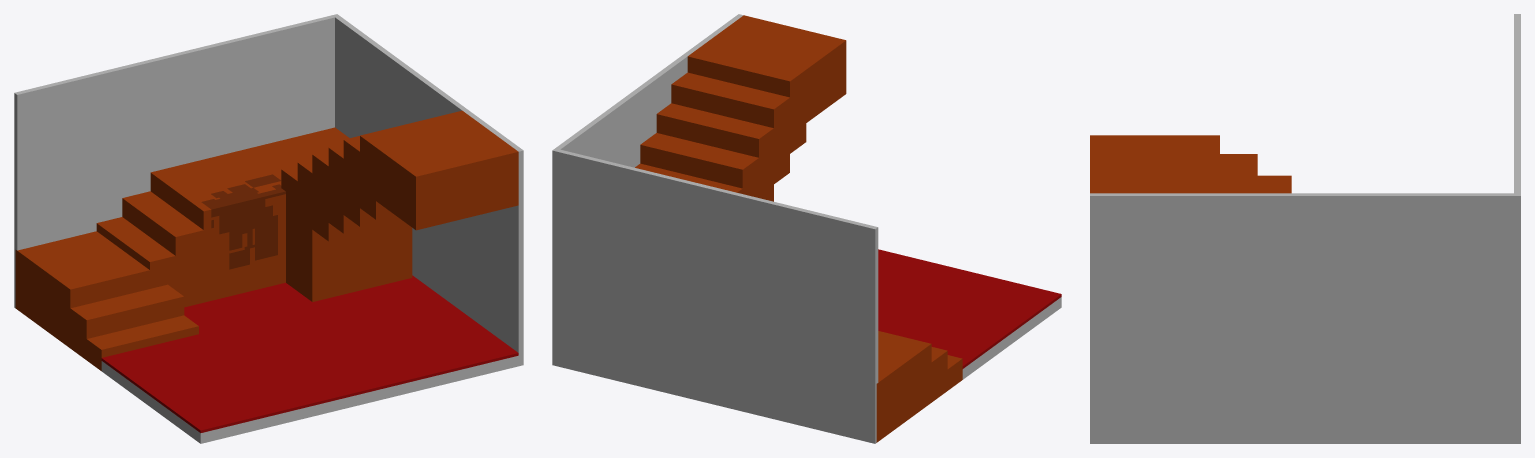
File: 4x2 first (1)-6.obj
3 views of the same model, side by side, from view 1: azimuth 30°, elevation 25°; view 2: azimuth 150°, elevation 25°; view 3: azimuth 270°, elevation 25° (orthographic). The views are drawn at different scales.
Visible parts, largest first — view 1: 4x2 first (1)-6; view 2: 4x2 first (1)-6; view 3: 4x2 first (1)-6.
Boxes of the visible parts, left/top/right/bottom form: 4x2 first (1)-6: left=14, top=14, right=523, bottom=443; 4x2 first (1)-6: left=552, top=14, right=1061, bottom=443; 4x2 first (1)-6: left=1090, top=14, right=1520, bottom=443.
Size of the model in its own units: 126 by 80 by 126.
1 material, 1 textured.
